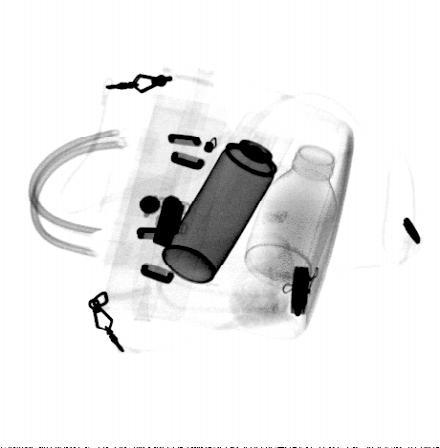Sprayer: (160, 109, 297, 284)
